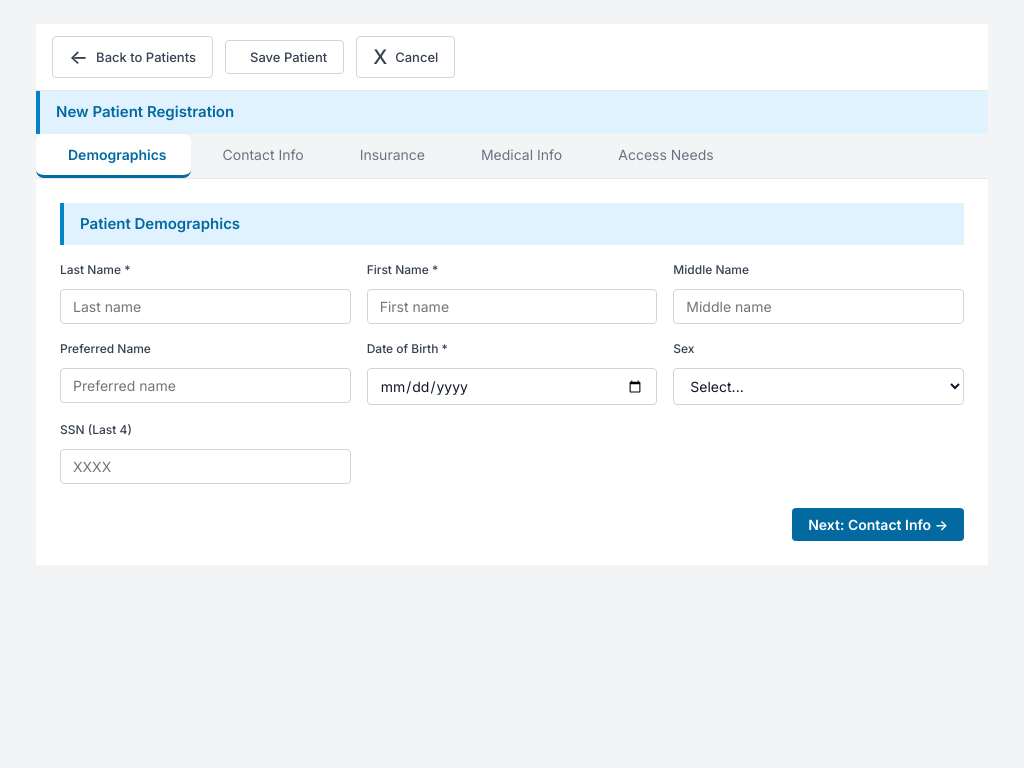
Test case: NewPatientPage › should have all required form fields
expect the field labelled "First Name *" is shown: met, box [367,289,657,324]
expect the field labelled "Last Name *" is shown: met, box [60,289,351,324]
Click the button "Next: Contact Info →". click: (878, 524)
box: [792,508,964,541]
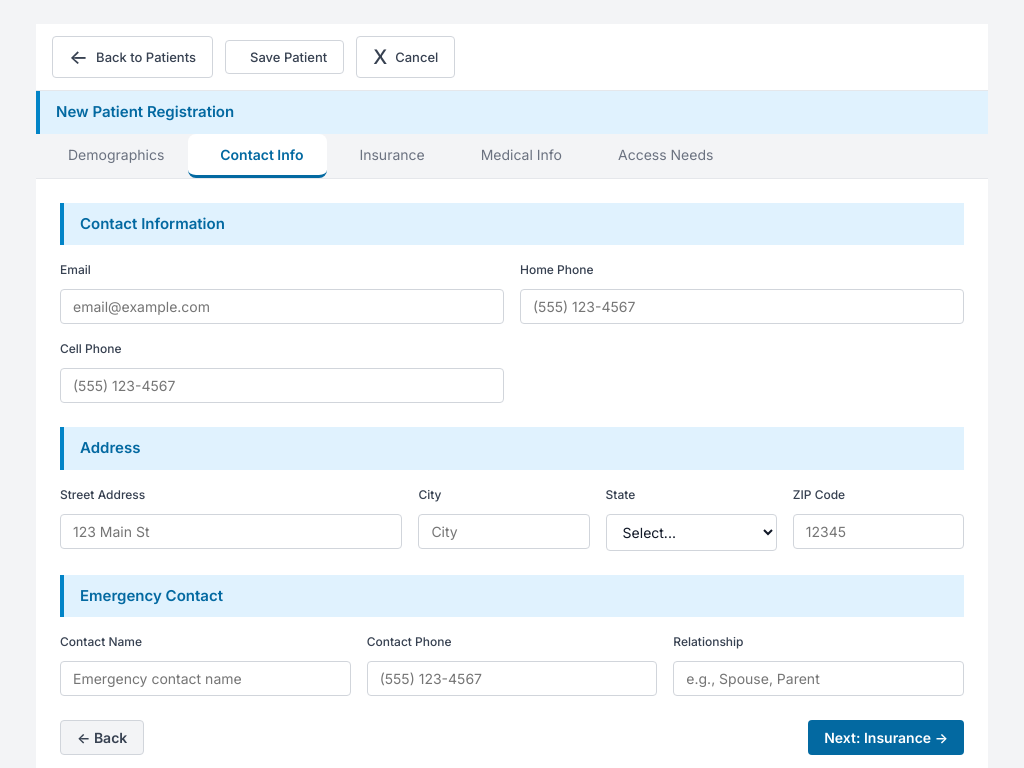
expect the field labelled "Email" is shown: met, box [60,289,504,324]
expect the field labelled "Home Phone" is shown: met, box [520,289,964,324]
